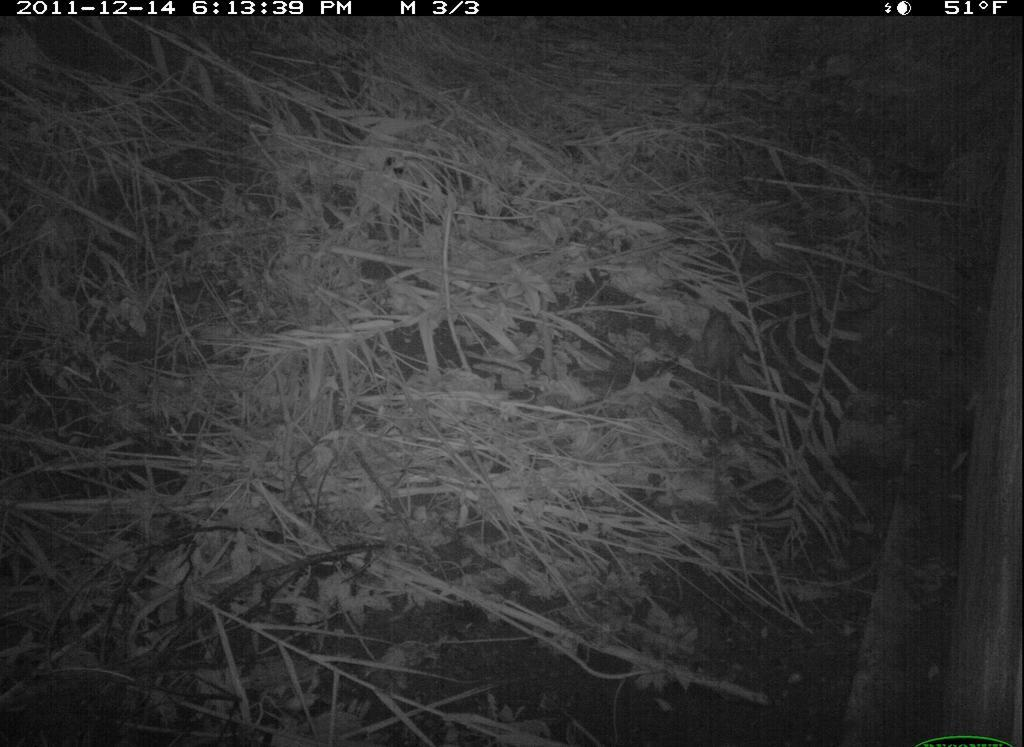opossum: (665, 286, 777, 419)
